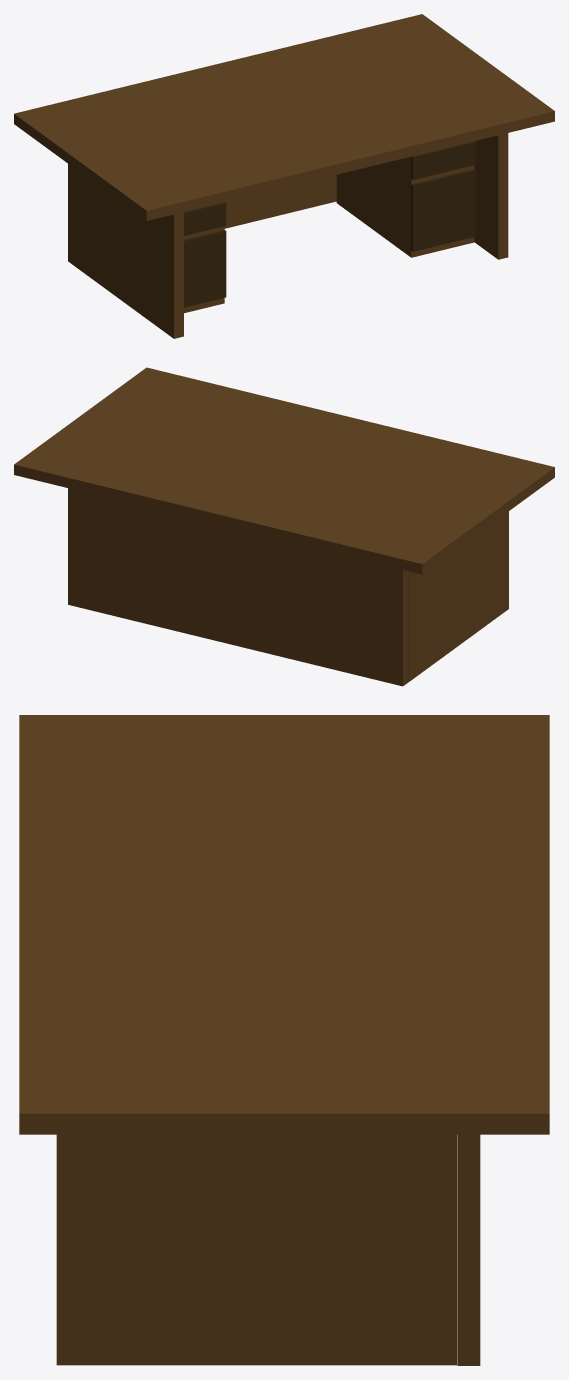
File: boss desk.fbx
The picture shows the model from 3 angles, top to bottom: view 1: azimuth 30°, elevation 25°; view 2: azimuth 150°, elevation 25°; view 3: azimuth 270°, elevation 25°; orthographic projection. The views are drawn at different scales.
Visible parts, largest first — view 1: Cube.123, Cube.120, Cube.127, Cube.124, Cube.121, Cube.122, Cube.131, Cube.126, Cube.129, Cube.128; view 2: Cube.123, Cube.122, Cube.120; view 3: Cube.123, Cube.121, Cube.122.
Boxes of the visible parts, x1,y1,x2,y2 form: Cube.123: (14,14,554,220); Cube.120: (74,168,183,338); Cube.127: (336,156,474,257); Cube.124: (411,169,475,251); Cube.121: (474,133,508,259); Cube.122: (68,164,336,265); Cube.131: (184,230,226,307); Cube.126: (411,141,475,179); Cube.129: (184,202,226,235); Cube.128: (184,226,224,313); Cube.123: (14,367,554,574); Cube.122: (68,488,408,686); Cube.120: (408,511,508,681); Cube.123: (19,715,549,1134); Cube.121: (56,1134,456,1365); Cube.122: (457,1134,480,1365).
Size of the model in its own units: 488 by 164 by 274.
